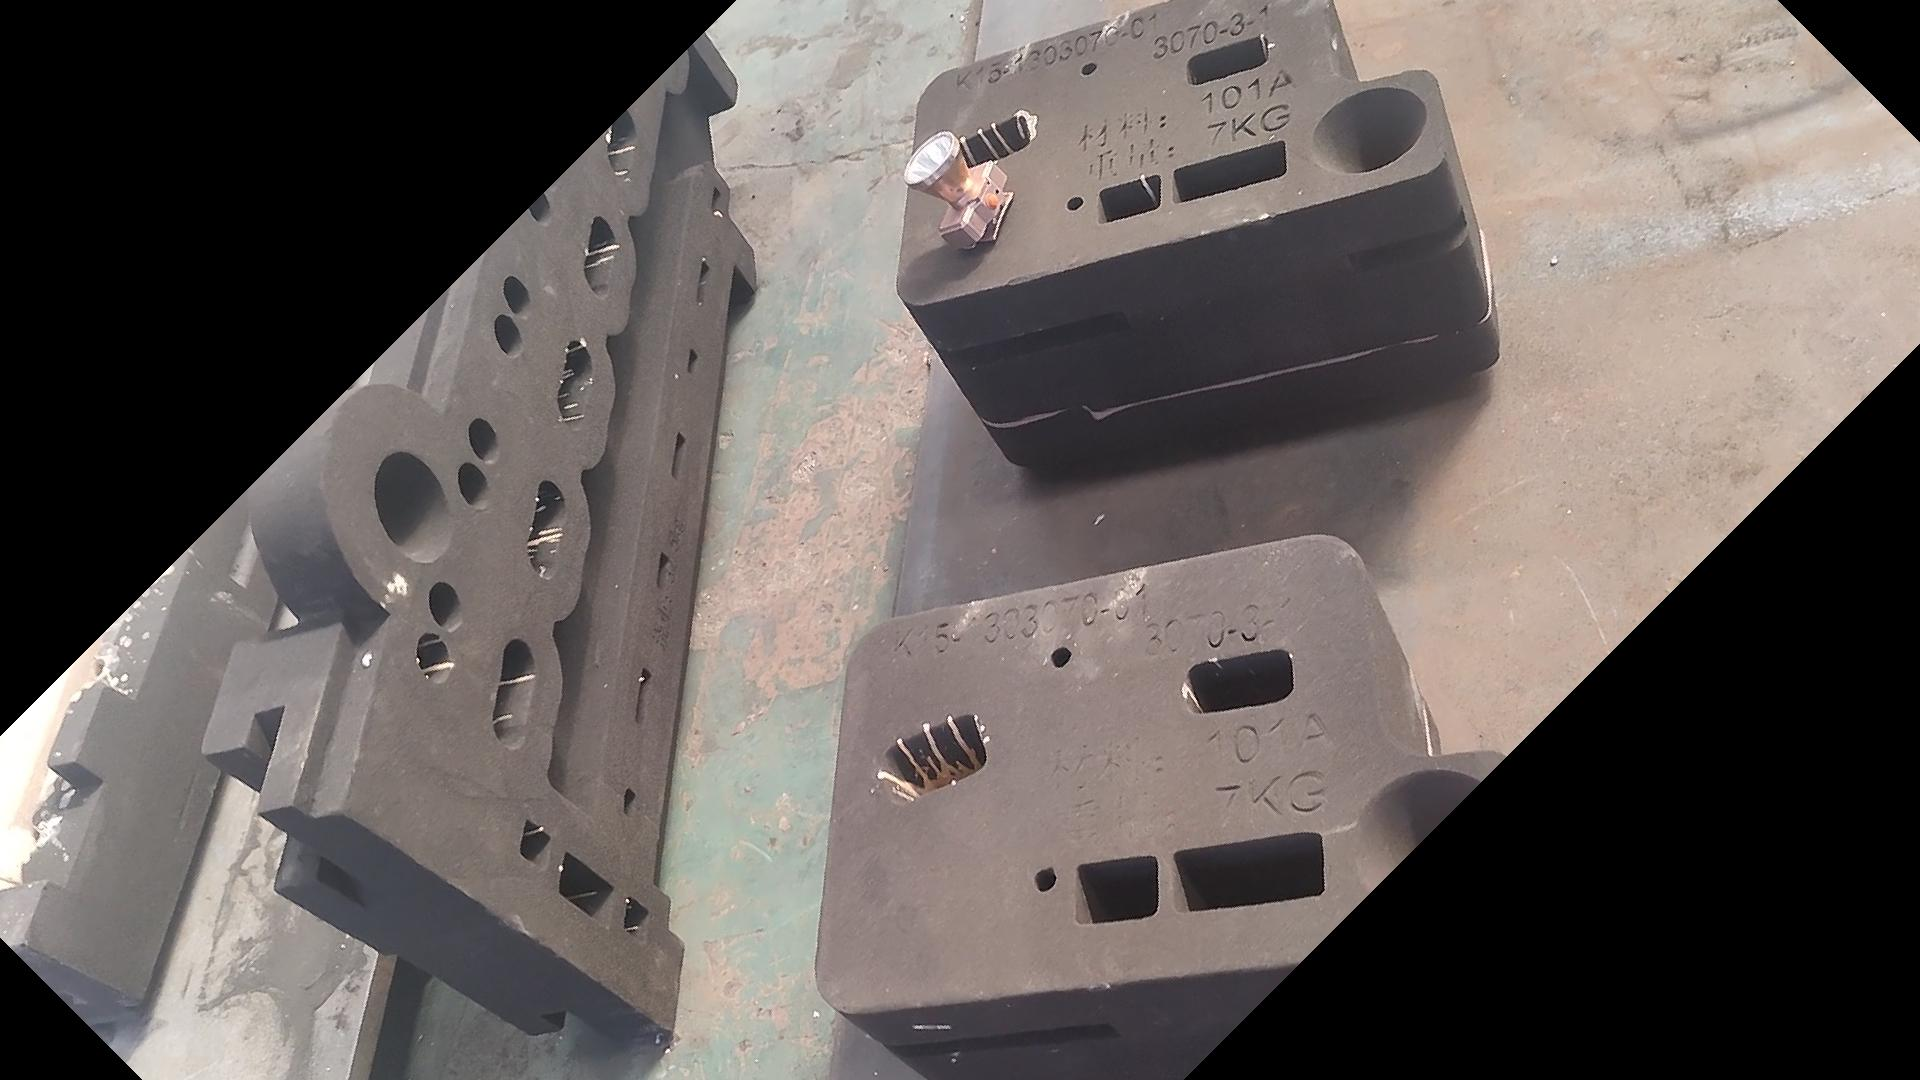pouring hole: (1353, 767, 1499, 906), (1308, 86, 1427, 175), (375, 448, 451, 564)
